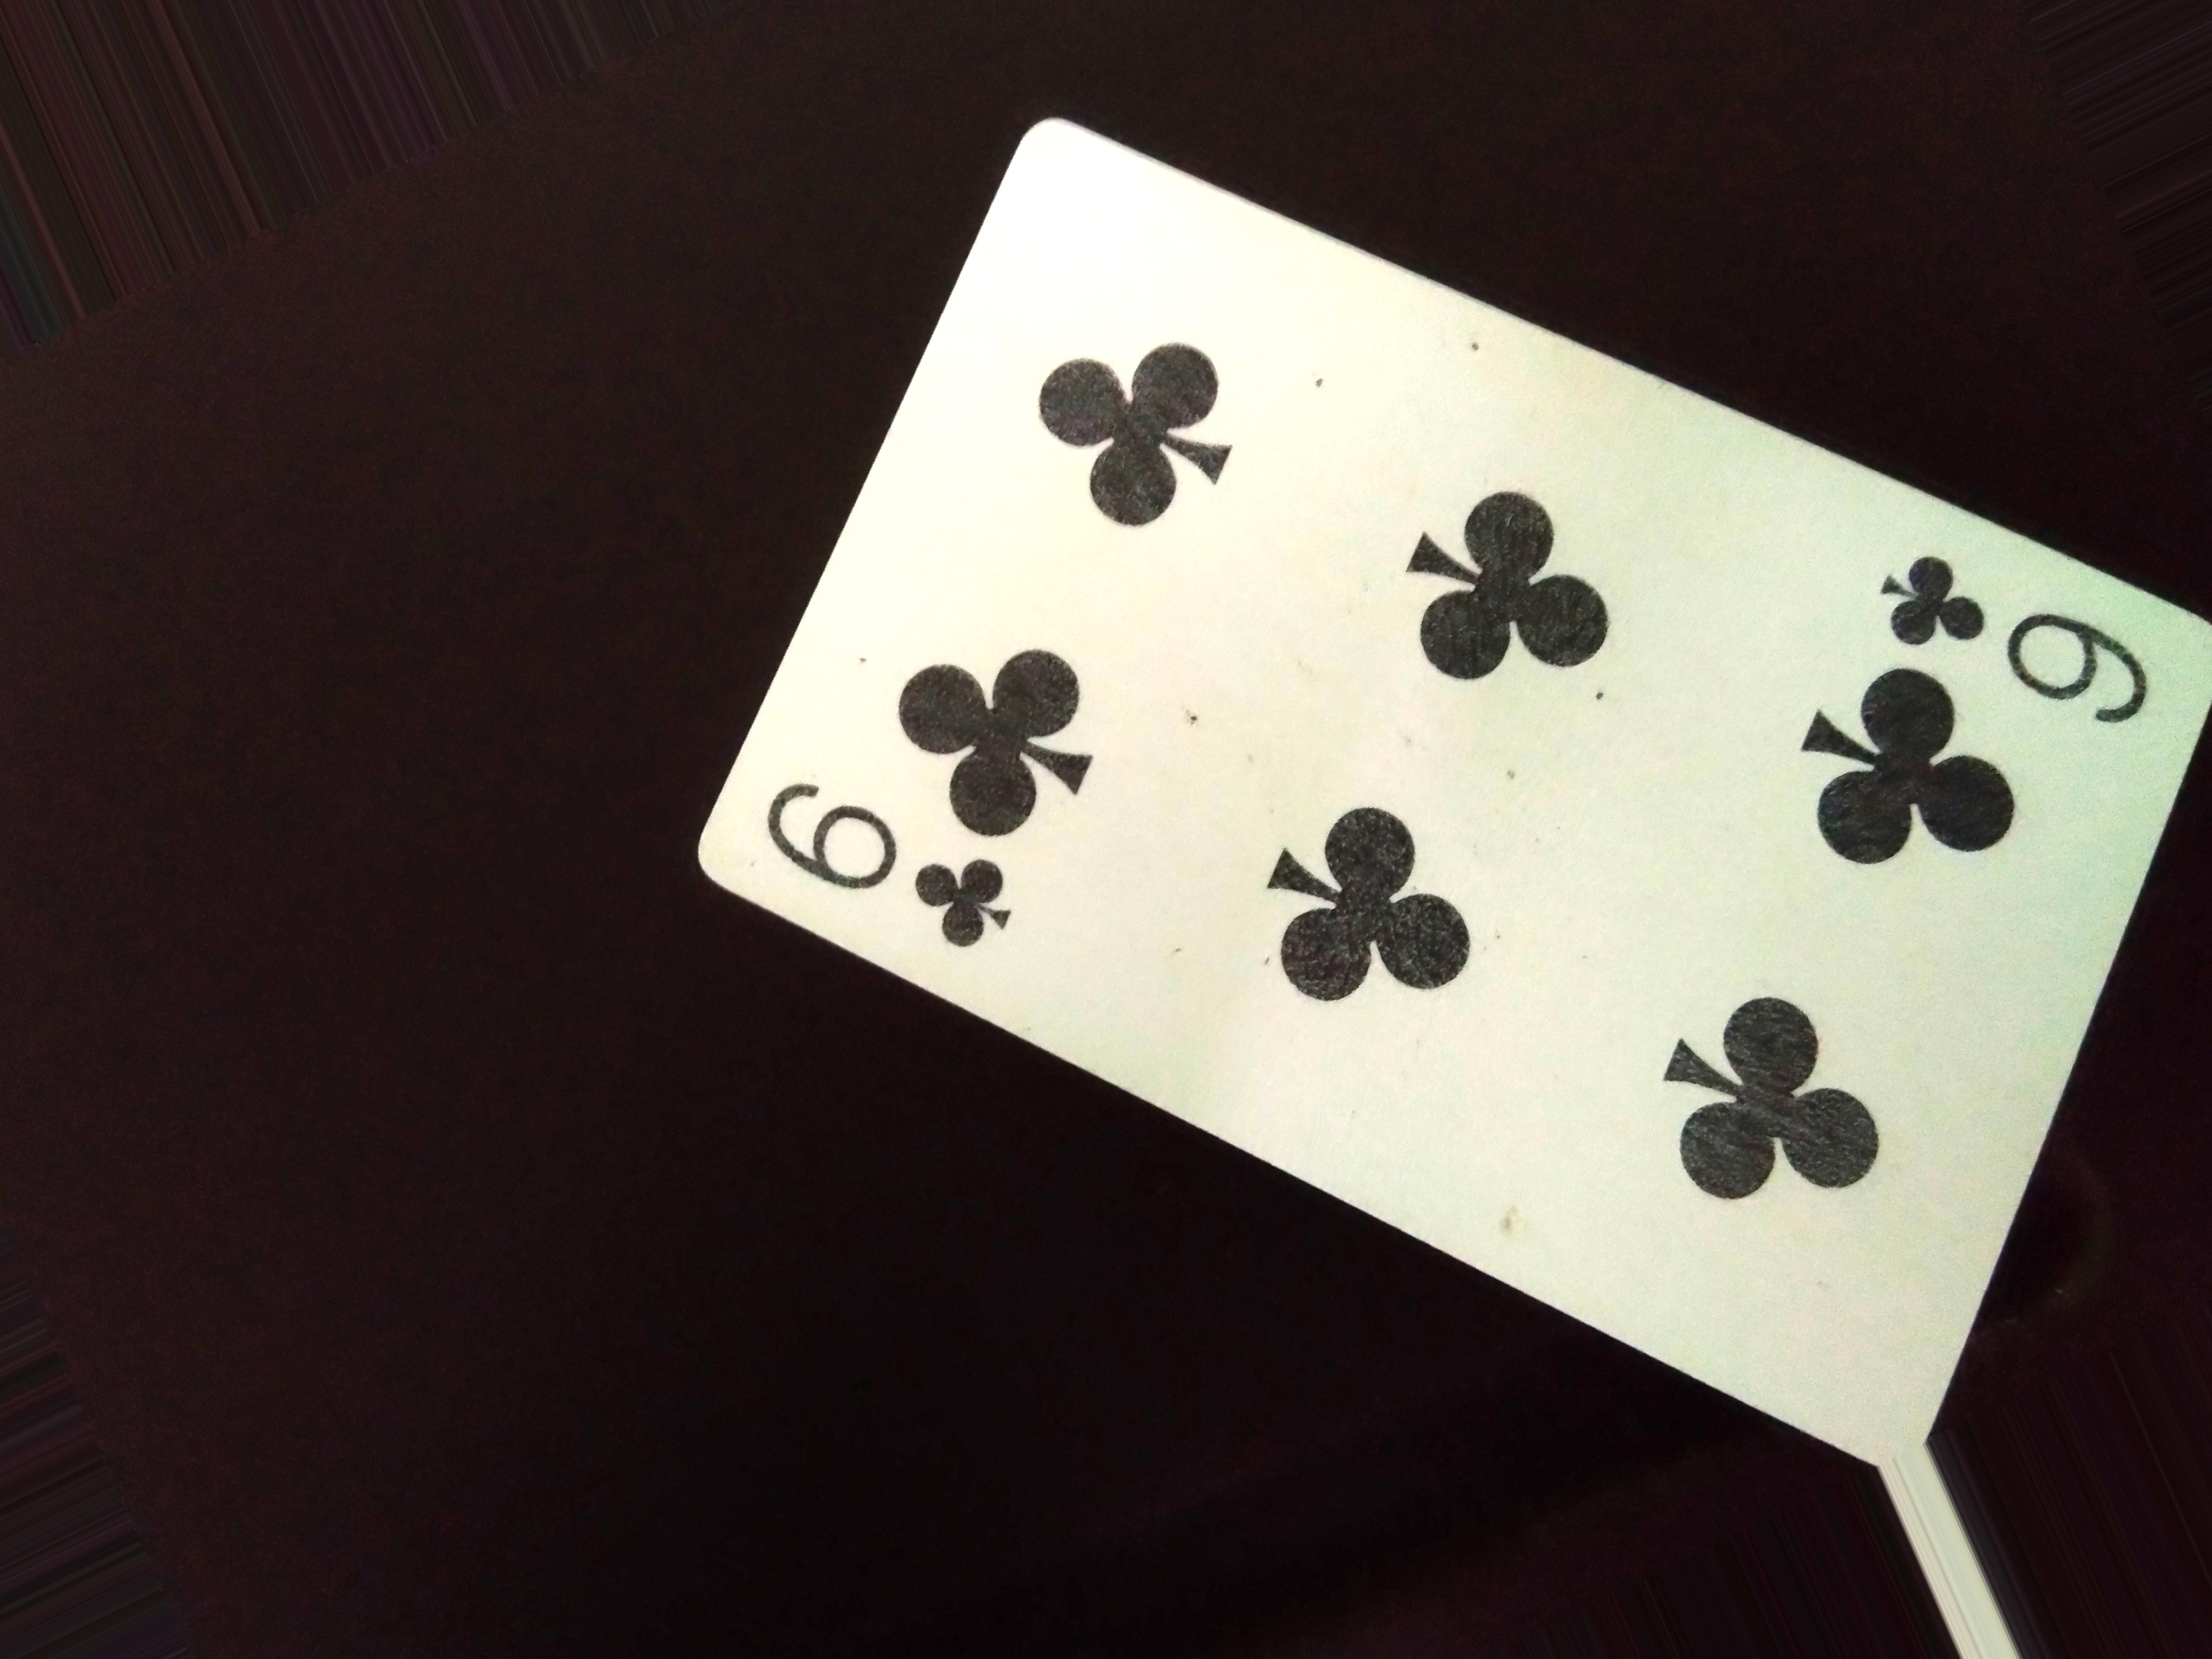6C: (759, 772, 1057, 941)
